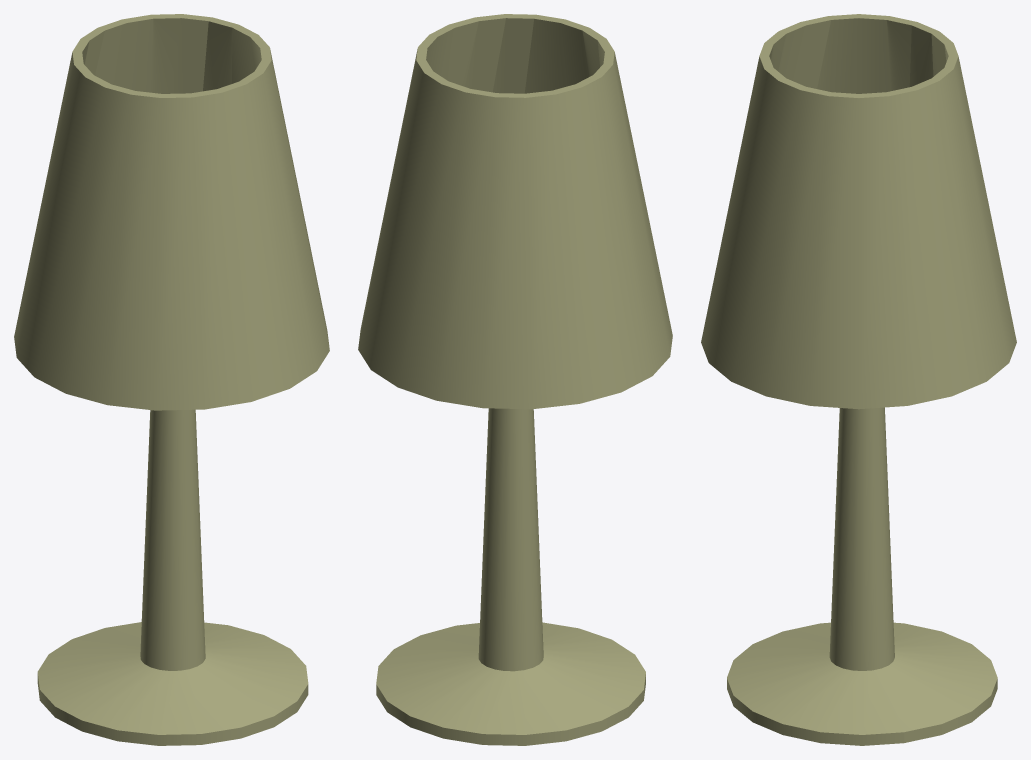
Rendered from lamp_1 1.fbx.
The picture shows the model from 3 angles, left to right: view 1: azimuth 30°, elevation 25°; view 2: azimuth 150°, elevation 25°; view 3: azimuth 270°, elevation 25°; orthographic projection.
Visible parts, largest first — view 1: lamp_1; view 2: lamp_1; view 3: lamp_1.
Part boxes in pixels (x1,y1,x2,y2): lamp_1: [14, 14, 329, 745]; lamp_1: [358, 14, 672, 745]; lamp_1: [701, 14, 1016, 745].
Size of the model in its own units: 312 by 687 by 312.
